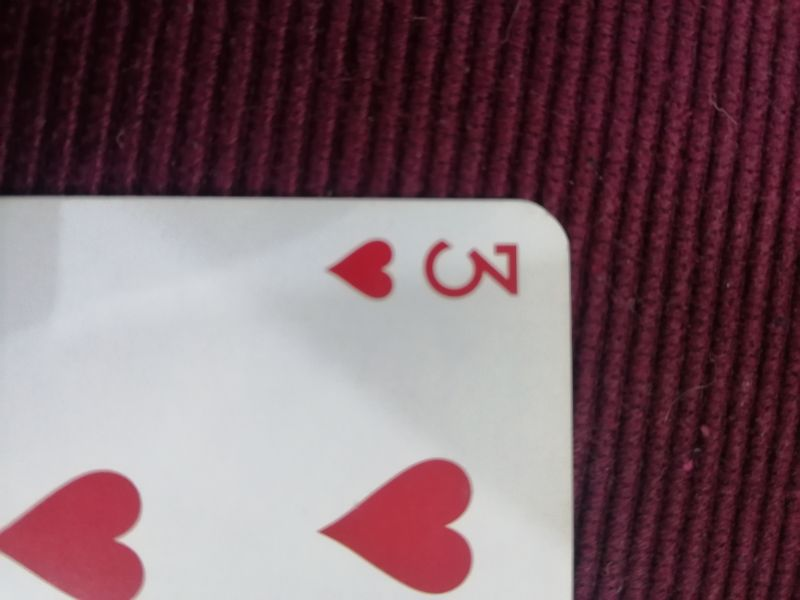3h: (324, 233, 528, 309)
